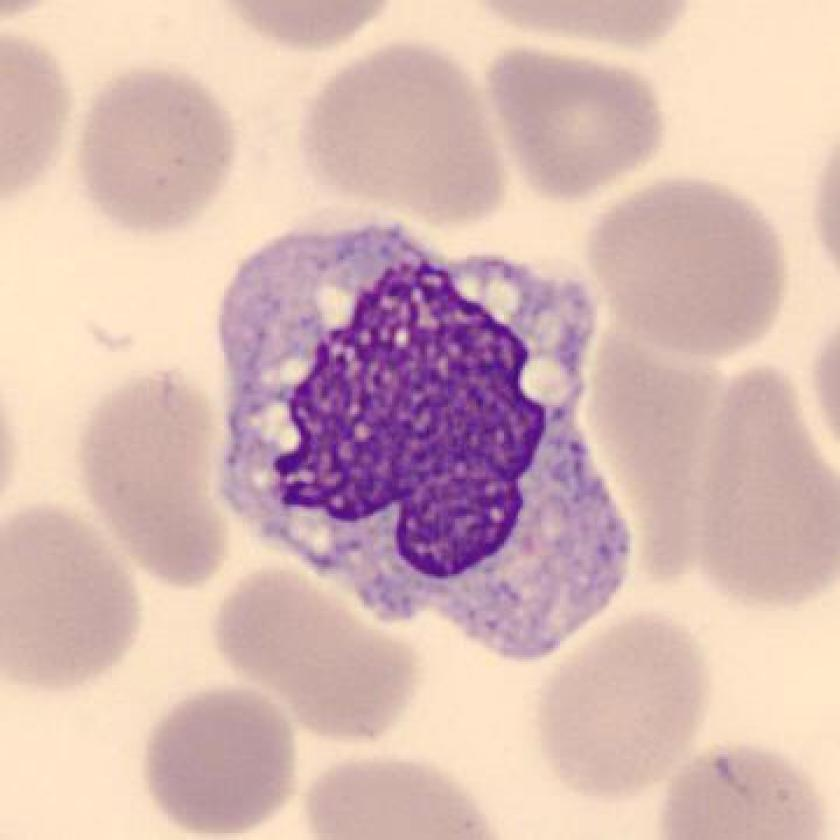monocyte: (199, 200, 645, 672)
